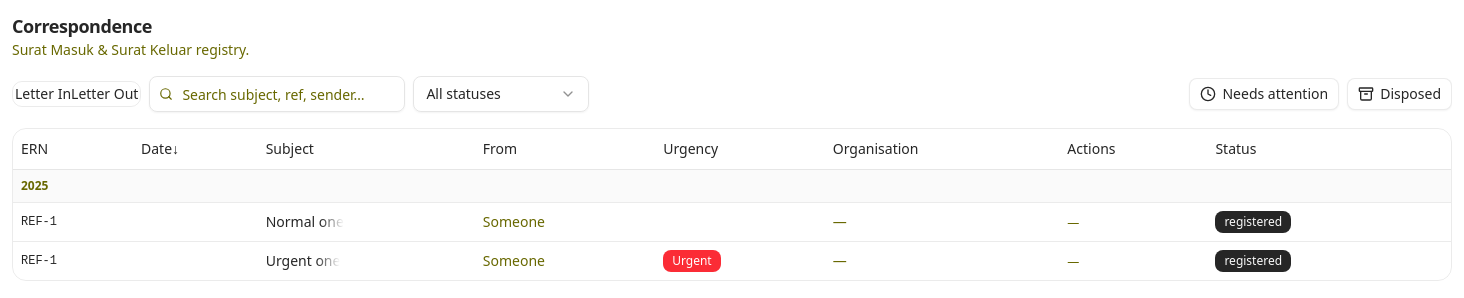
Test: correspondence register › labels the pending-registration tile's reference column neutrally, not direction-aware
Click the button "Needs attention".
click(1264, 94)  # box 1190,78 -> 1339,110
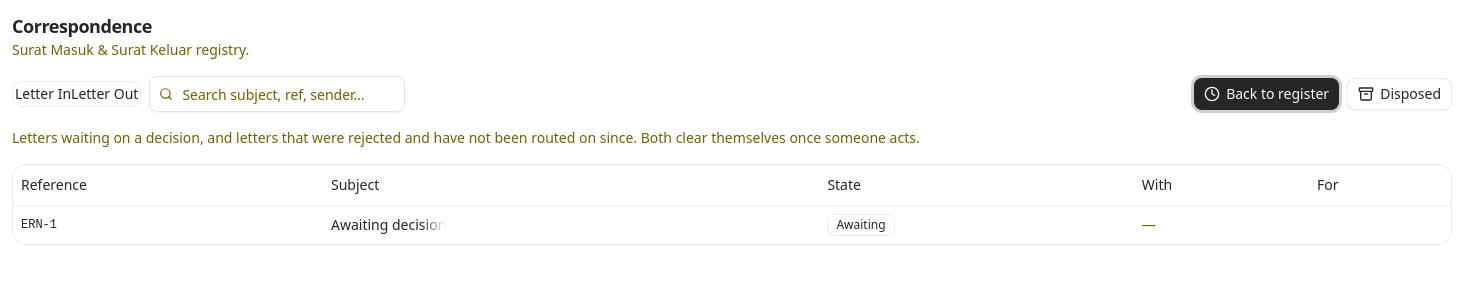
Expected: the column heading "Reference" is shown, 13,165 -> 323,205
